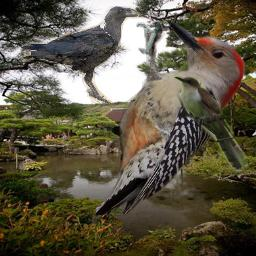Crow: (21, 6, 140, 104)
Cuckoo: (173, 74, 248, 172)
Woodpecker: (96, 22, 245, 215)
